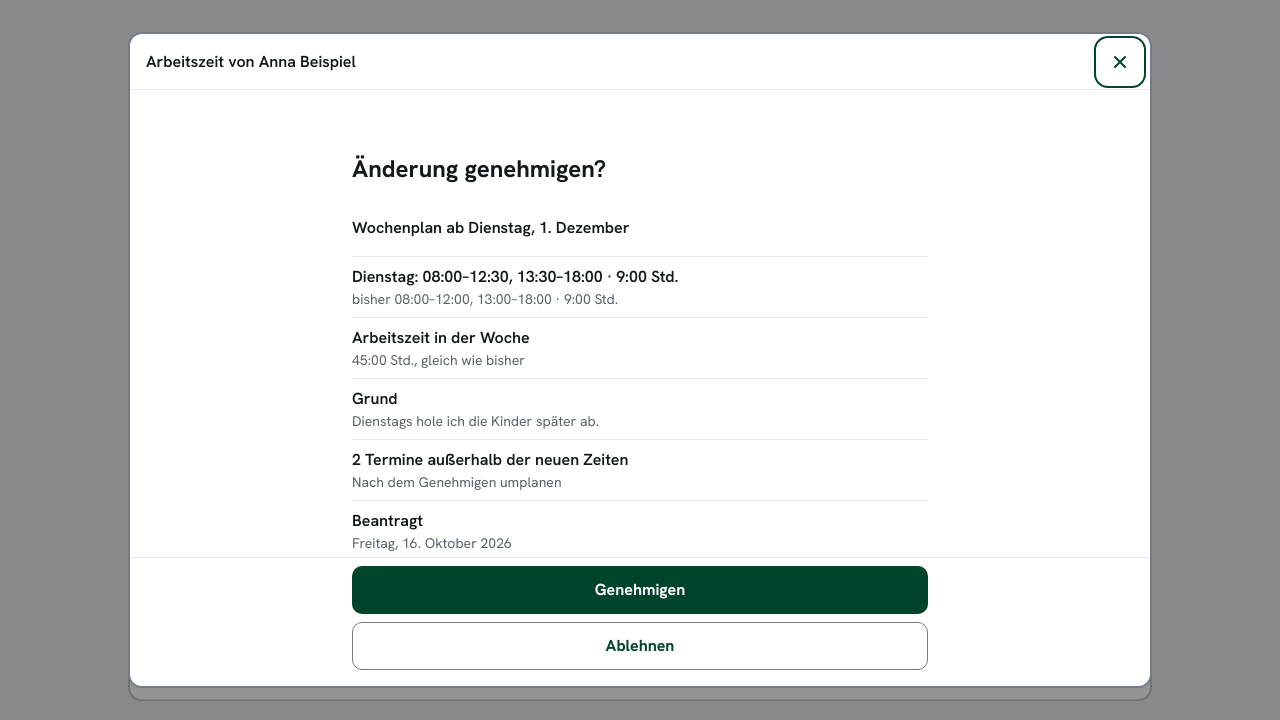
it: DecideWorkingTimePage › lehnt nur mit Grund ab
Click the 2nd button "Ablehnen".
click(640, 646)  # box [352,622,928,670]
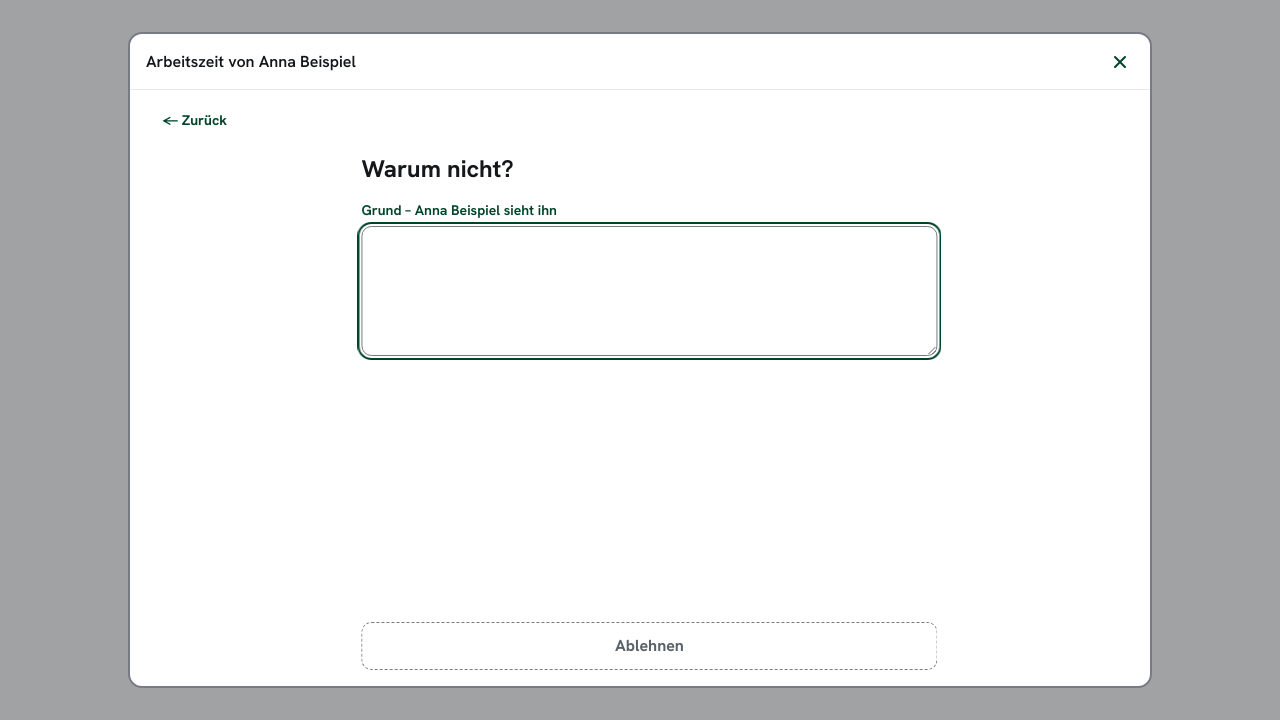
Expected: the button "Ablehnen" is disabled, [354,622,930,670]
Type "Dienstags fehlt sonst die Spätschicht" into the text box labelled "Grund – Anna Beispiel sieht ihn".
click(642, 291); type("Dienstags fehlt sonst die Spätschicht")  # box [354,226,930,356]
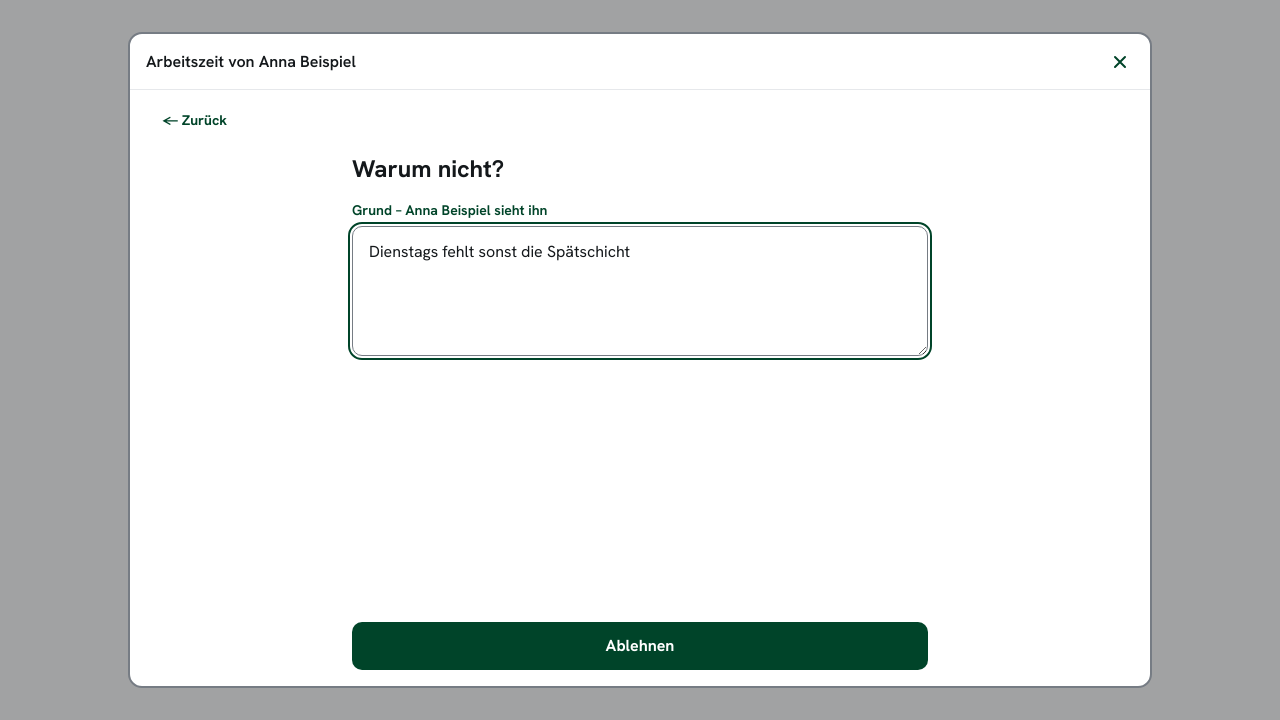
Click the button "Ablehnen".
click(640, 646)  # box [352,622,928,670]
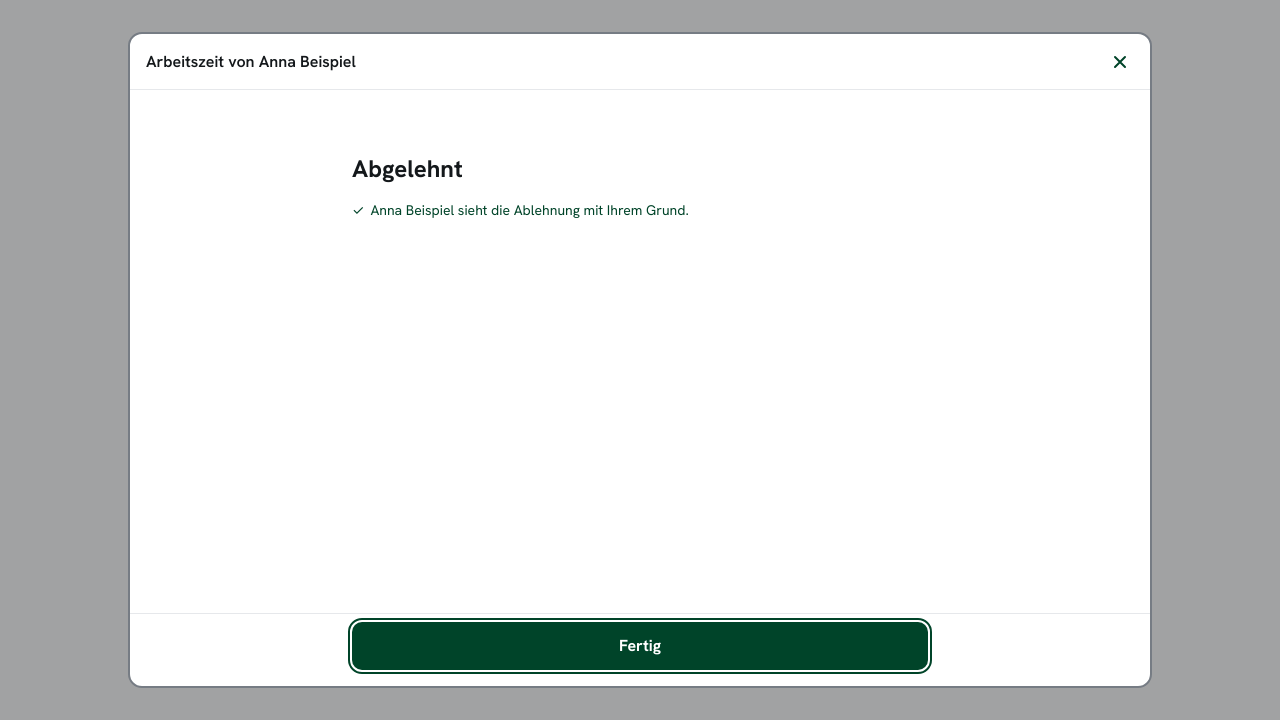
Expected: the dialog "Abgelehnt" is shown
